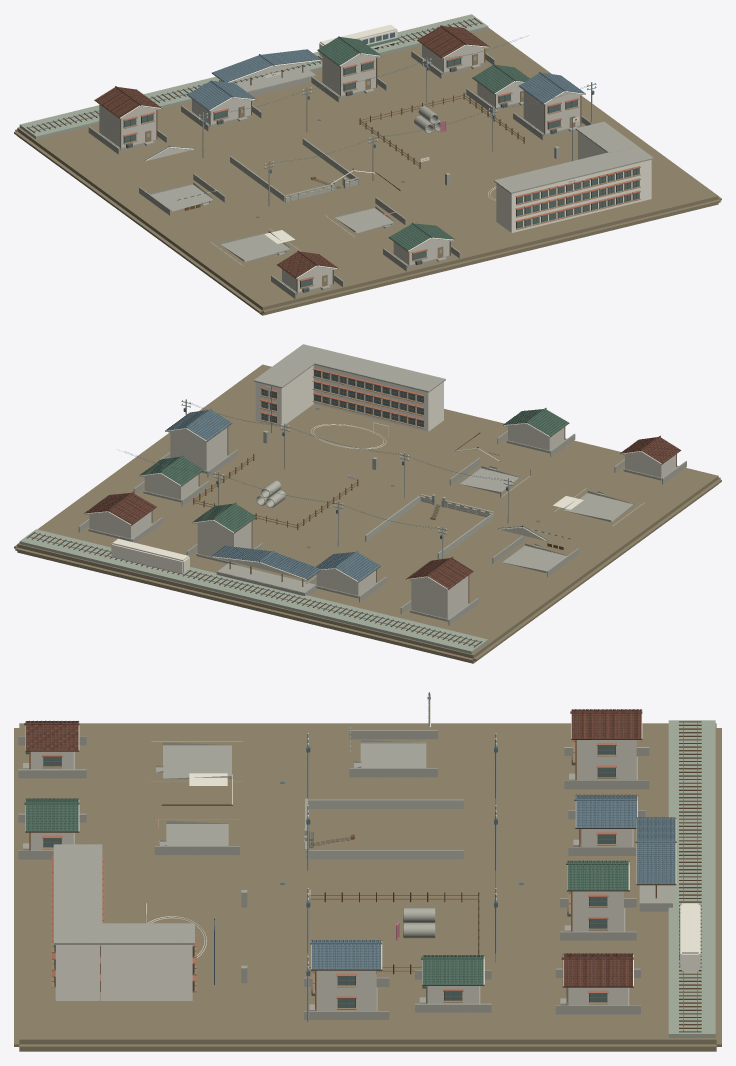
Rendered from world-v11.glb.
3 renders of one model, top to bottom at view 1: azimuth 30°, elevation 25°; view 2: azimuth 150°, elevation 25°; view 3: azimuth 270°, elevation 25°, orthographic. The views are drawn at different scales.
Visible parts, largest first — view 1: town, roof_town, garden; view 2: town, roof_town, garden; view 3: town, roof_town, garden.
Part boxes in pixels (bbox=[...]): town: bbox=[14, 14, 721, 315]; roof_town: bbox=[94, 25, 585, 279]; garden: bbox=[230, 138, 358, 202]; town: bbox=[14, 344, 721, 663]; roof_town: bbox=[84, 408, 681, 589]; garden: bbox=[365, 494, 493, 559]; town: bbox=[14, 720, 721, 1051]; roof_town: bbox=[24, 692, 676, 987]; garden: bbox=[304, 798, 463, 859].
Size of the model in its own units: 89 by 10.27 by 83.
Materials: 33 (17 with a texture image).
